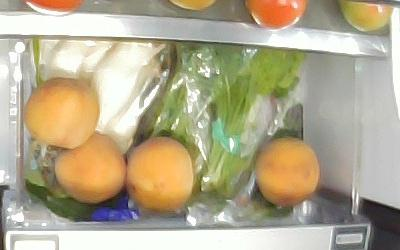peach: (24, 78, 99, 150), (127, 135, 194, 215), (53, 131, 126, 202), (254, 137, 322, 206)
